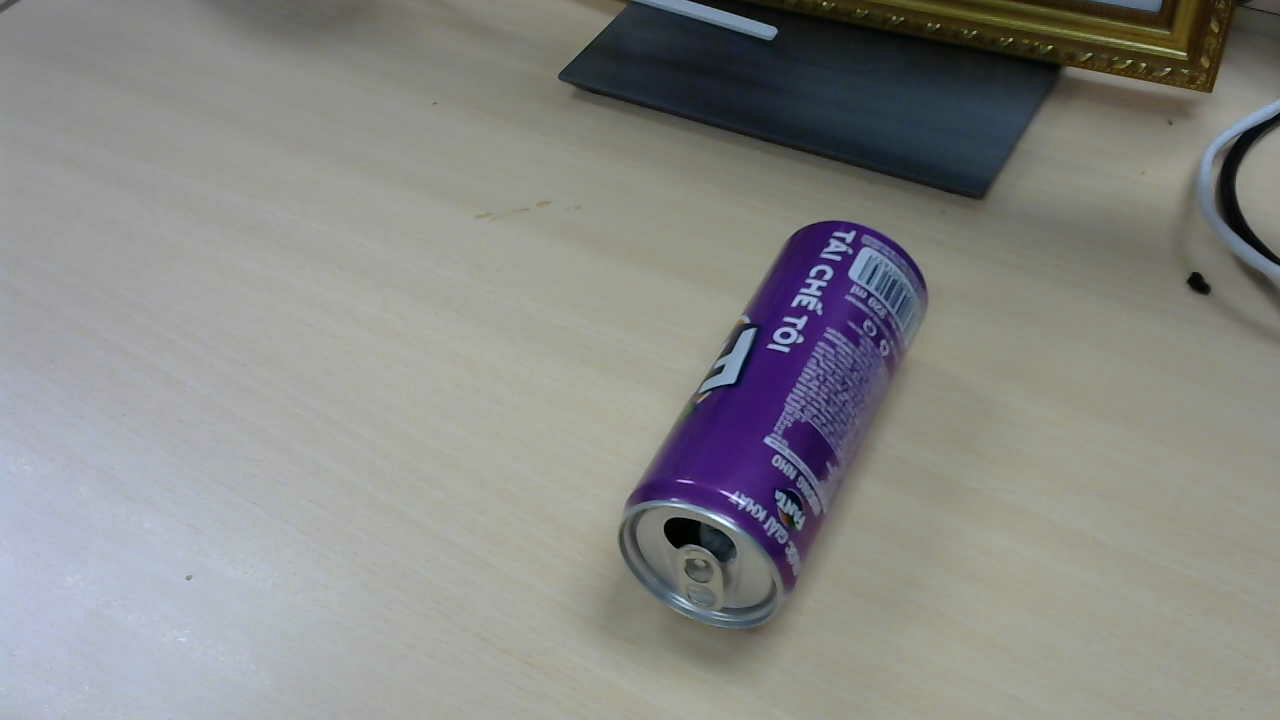Fanta: (621, 222, 934, 632)
